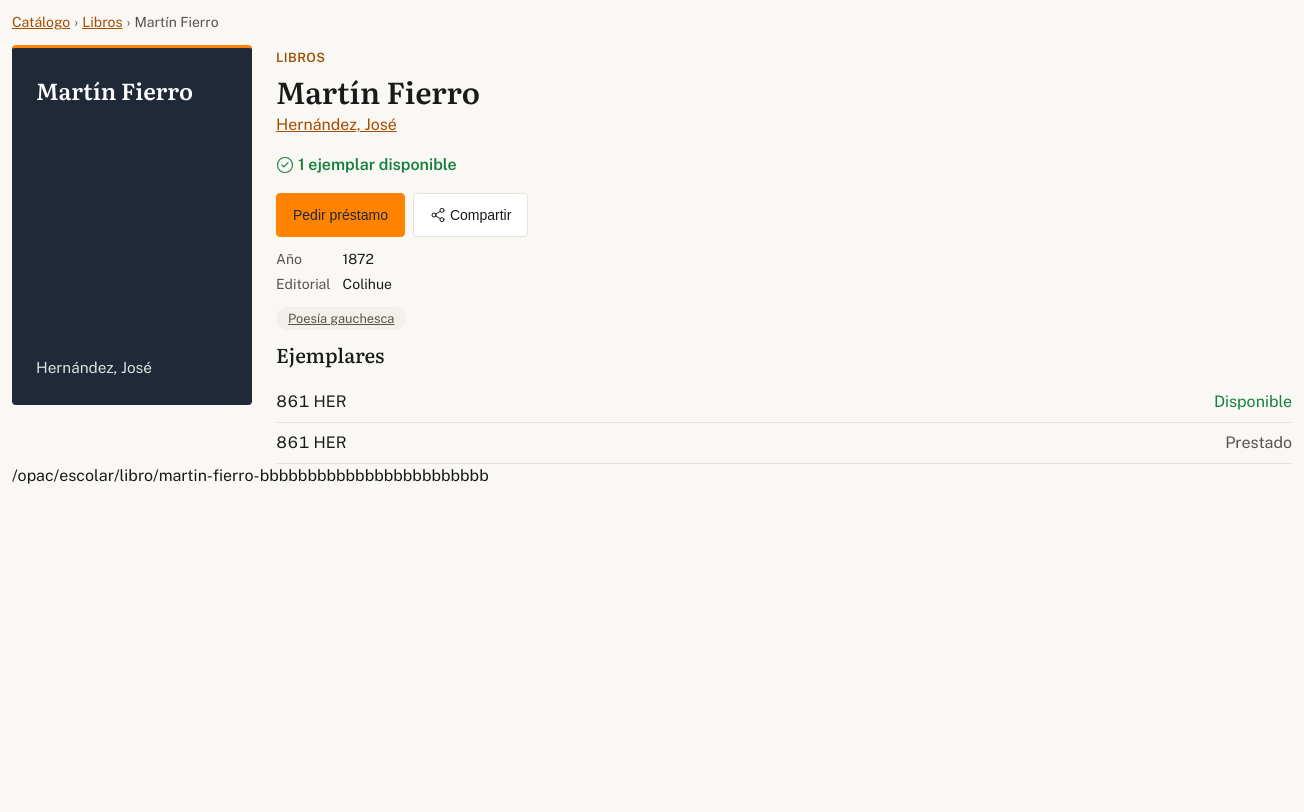
it: FichaMaterial › en el tope de la categoría no deja confirmar y explica por qué
Step 1. Click the button "Pedir préstamo" → x=340, y=215, box [276,193,405,237]
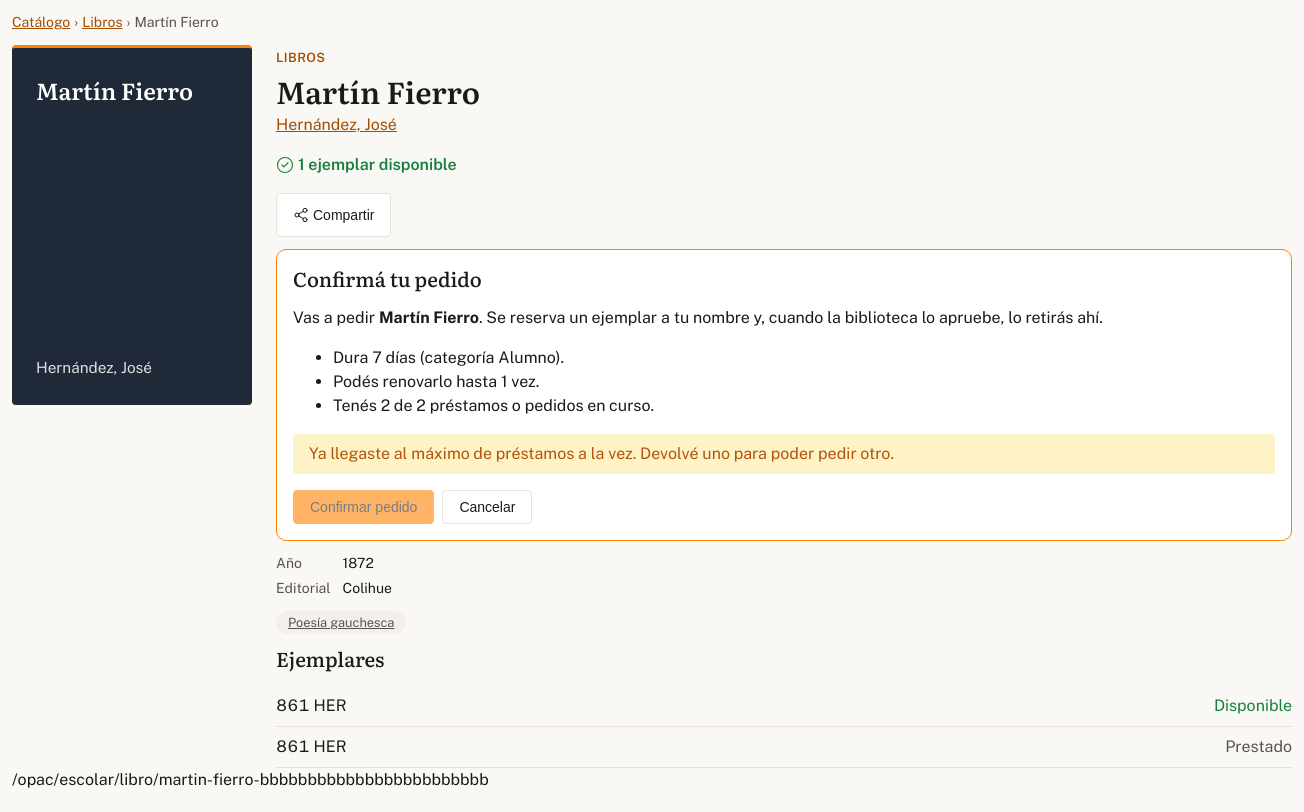
Result: the text "Ya llegaste al máximo" is shown at [309,444,894,463]
Result: the button "Confirmar pedido" is disabled at [293,490,434,524]
